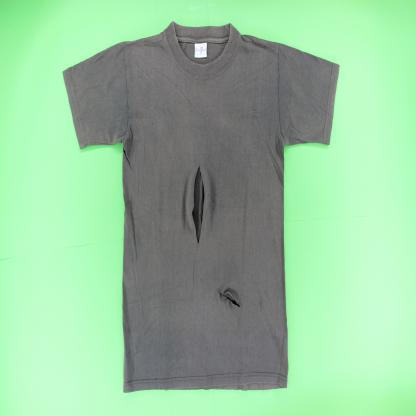hole: (188, 162, 209, 249), (217, 288, 242, 309)
